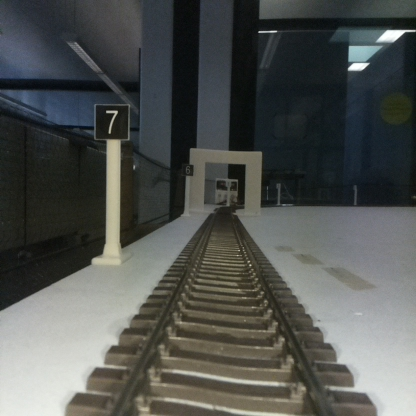black-info-6: (182, 164, 193, 213)
black-info-7: (94, 104, 128, 260)
